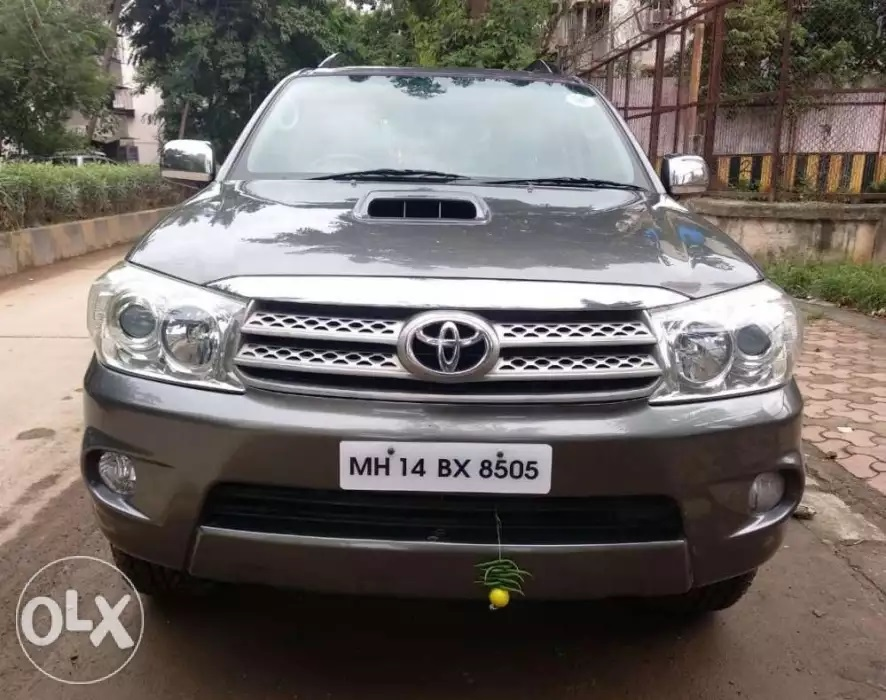licenseplate: (336, 437, 553, 499)
